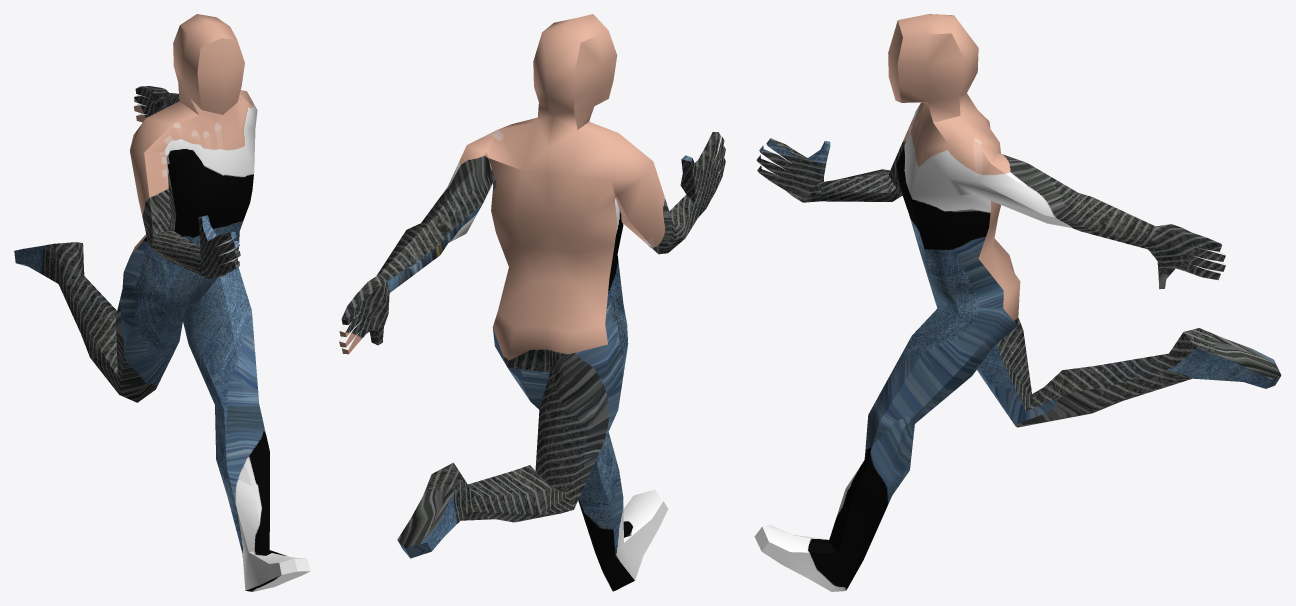
The model's file is human2.obj.
3 views of the same model, side by side, from view 1: azimuth 30°, elevation 25°; view 2: azimuth 150°, elevation 25°; view 3: azimuth 270°, elevation 25° (orthographic). The views are drawn at different scales.
Visible parts, largest first — view 1: HumanMale; view 2: HumanMale; view 3: HumanMale.
Boxes of the visible parts, bbox=[...] form: HumanMale: bbox=[14, 14, 310, 591]; HumanMale: bbox=[339, 14, 725, 591]; HumanMale: bbox=[754, 14, 1281, 591].
Size of the model in its own units: 0.3766 by 1.26 by 1.05.
Materials: 1 (1 with a texture image).
